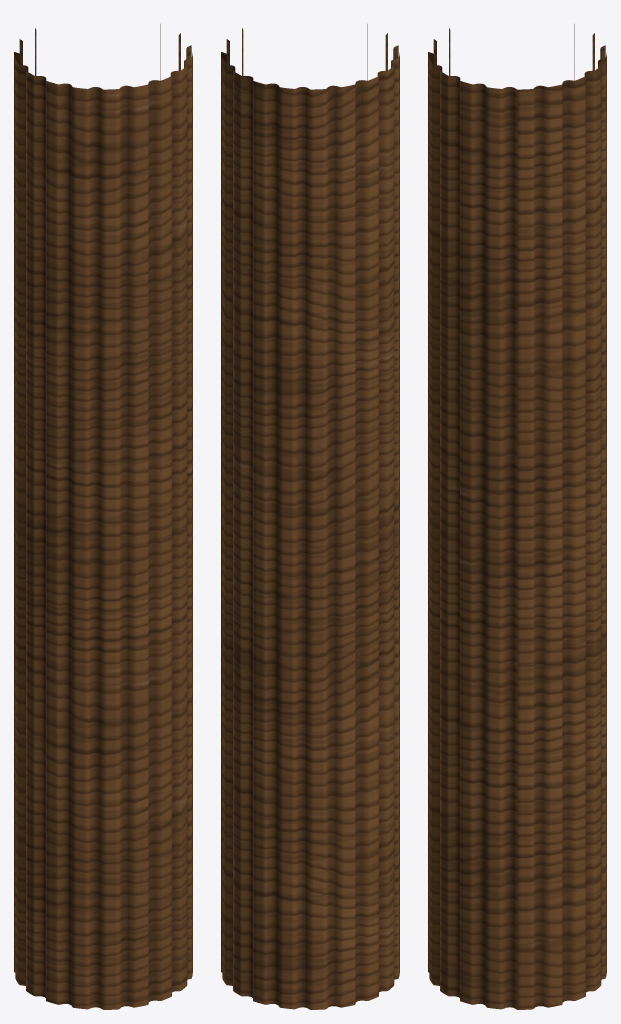
File: column.glb
3 renders of one model, left to right at view 1: azimuth 30°, elevation 25°; view 2: azimuth 150°, elevation 25°; view 3: azimuth 270°, elevation 25°, orthographic.
Visible parts, largest first — view 1: ColumnMesh; view 2: ColumnMesh; view 3: ColumnMesh.
Boxes of the visible parts, x1,y1,x2,y2 form: ColumnMesh: (14,24,192,1009); ColumnMesh: (221,24,399,1009); ColumnMesh: (428,24,606,1009).
Bounding box in the file's own units: 0.176 × 1 × 0.176.
Materials: 1 (1 with a texture image).
